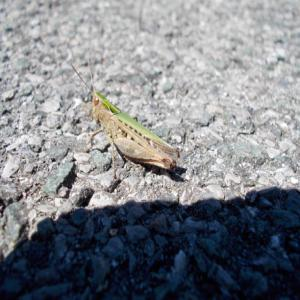locust: (67, 63, 212, 176)
